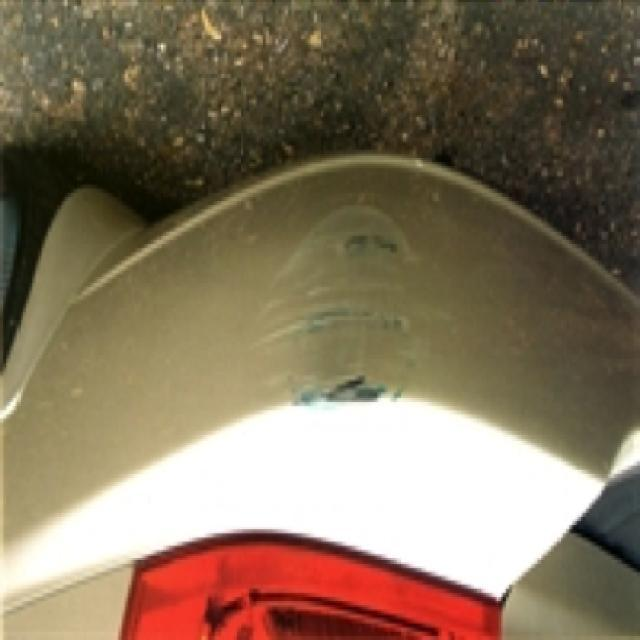scratch: (252, 192, 445, 420)
